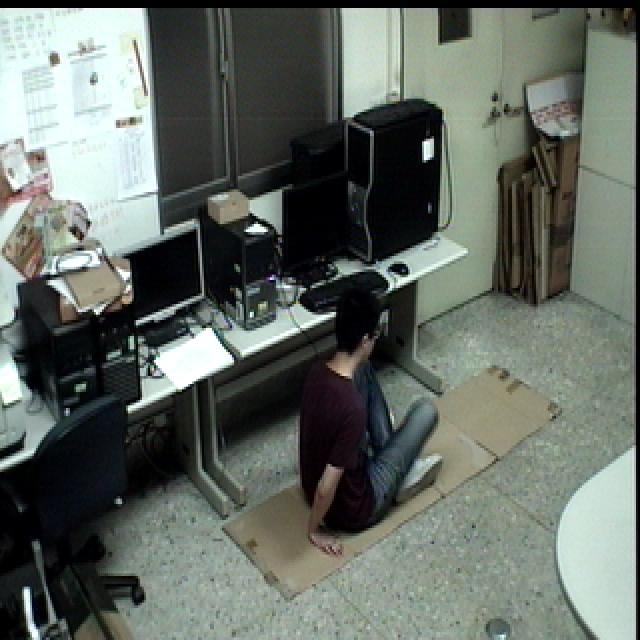sit: (298, 275, 459, 559)
